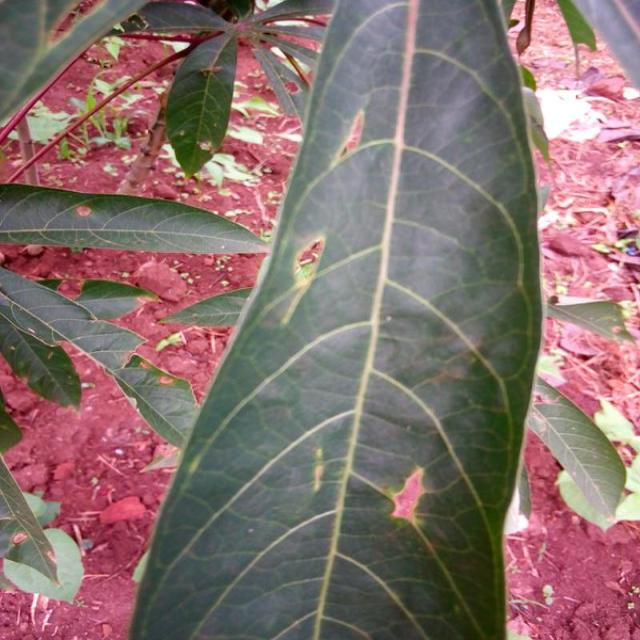cassava leaf: (127, 0, 546, 638)
